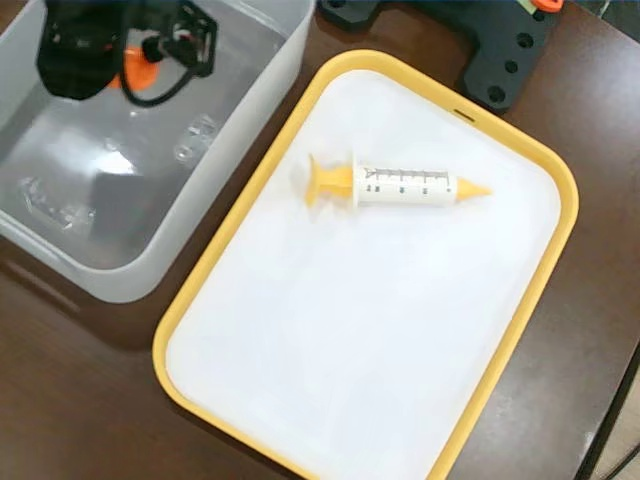syringe: (302, 150, 498, 219)
